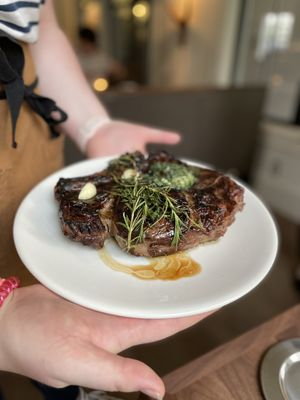sandwich: (54, 149, 246, 260)
